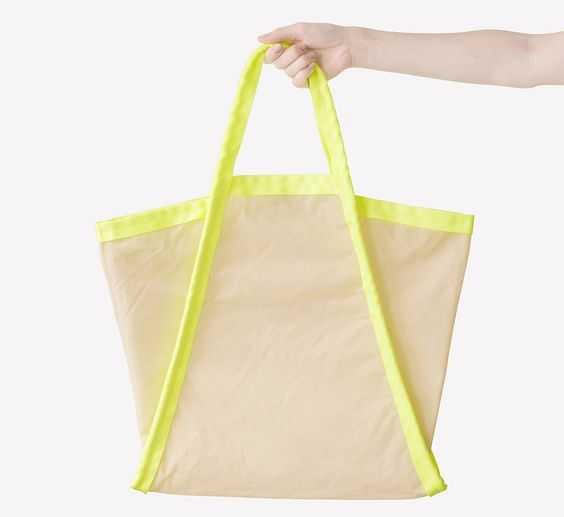nylon: (97, 39, 475, 500)
